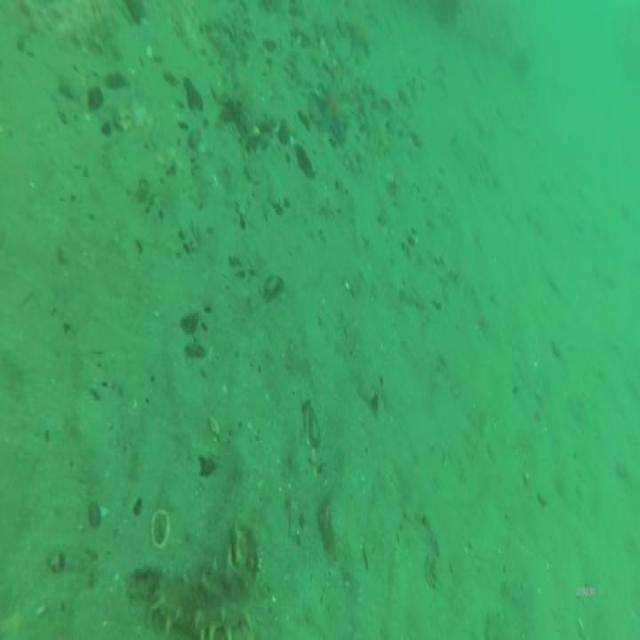echinus: (426, 0, 464, 33), (510, 44, 532, 82)
holothurian: (127, 562, 259, 640), (199, 515, 261, 610), (229, 0, 251, 68)
starfish: (310, 79, 354, 147), (342, 14, 379, 58)
